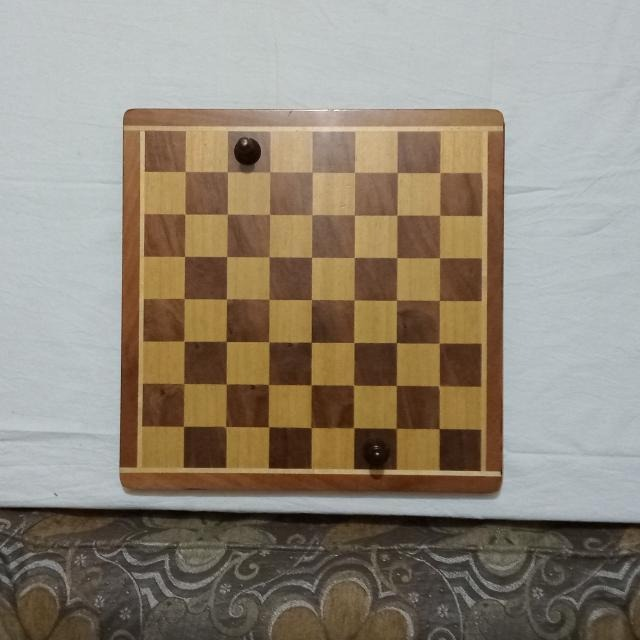black-pawn: (231, 133, 261, 165), (361, 436, 390, 468)
